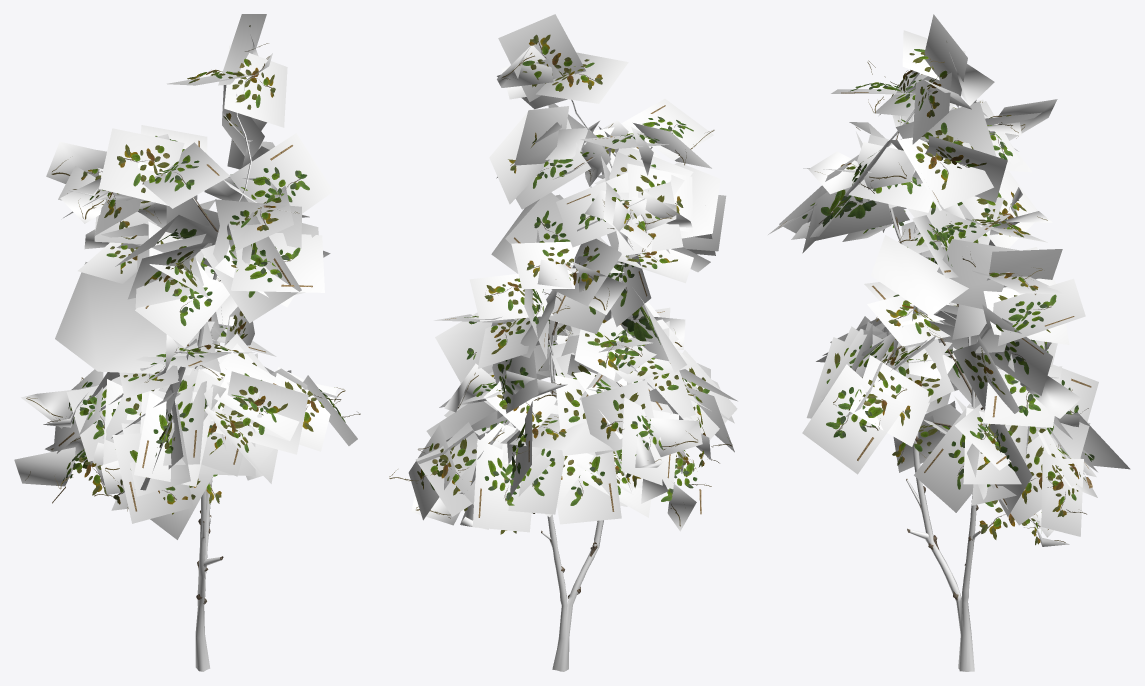
Rendered from almond_sapling.glb.
3 views of the same model, side by side, from view 1: azimuth 30°, elevation 25°; view 2: azimuth 150°, elevation 25°; view 3: azimuth 270°, elevation 25° (orthographic). The views are drawn at different scales.
Parts seen in each view (by area): view 1: almond_sapling; view 2: almond_sapling; view 3: almond_sapling.
Part boxes in pixels (left/top/right/bottom): almond_sapling: left=14, top=14, right=360, bottom=671; almond_sapling: left=389, top=14, right=737, bottom=671; almond_sapling: left=768, top=14, right=1130, bottom=671.
Bounding box in the file's own units: 2.89 × 6.3 × 3.11.
Materials: 3 (2 with a texture image).
